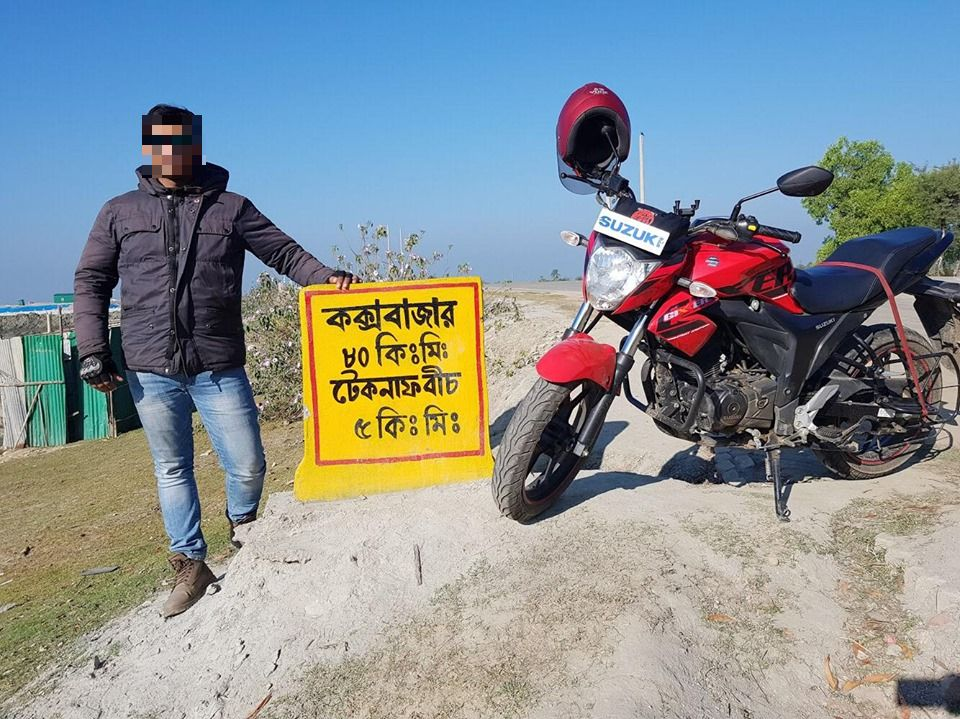bike: (487, 150, 960, 528)
